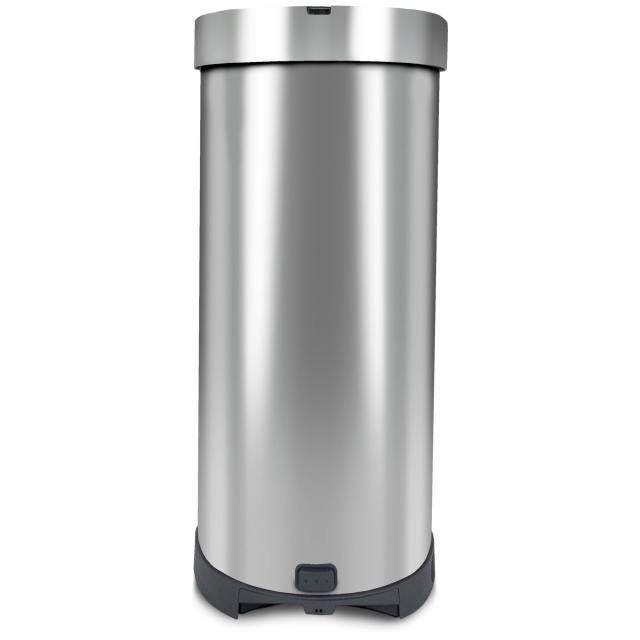Dumpster: (190, 3, 452, 616)
